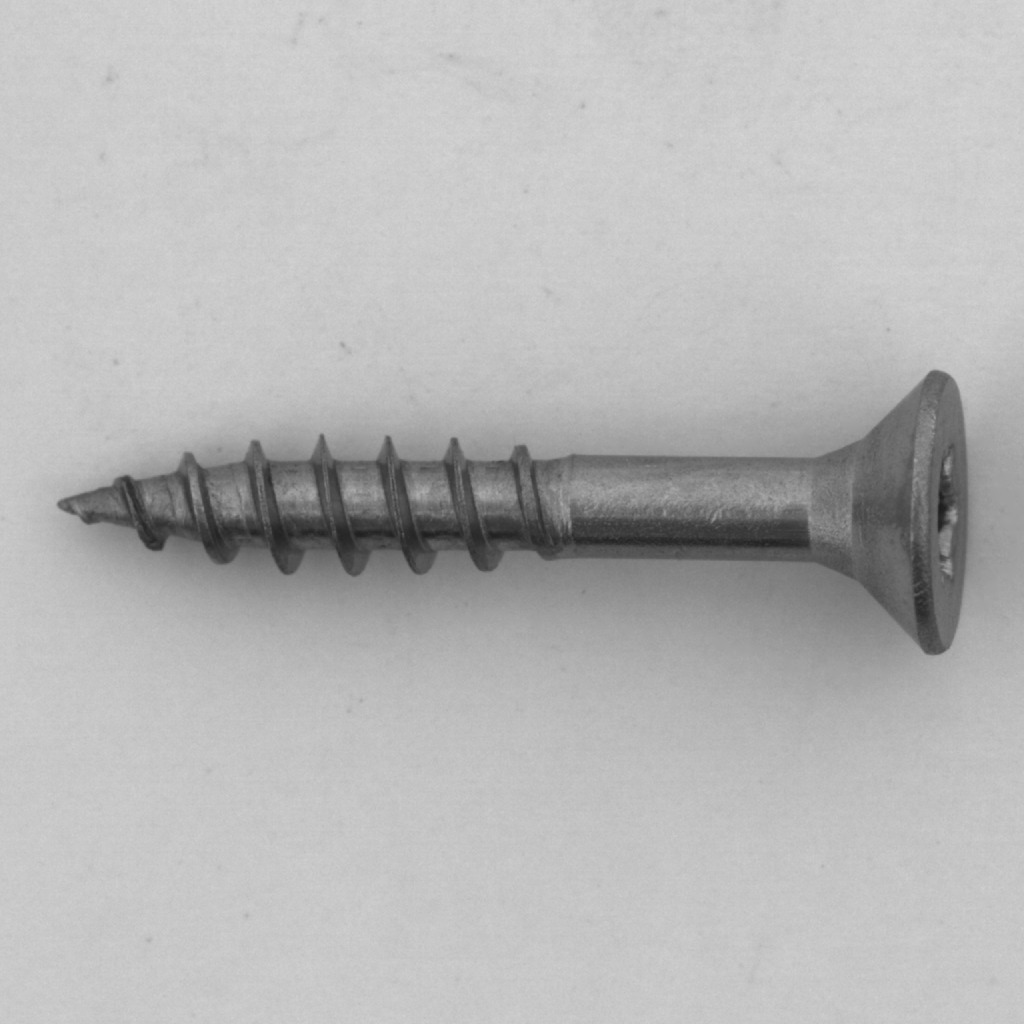good: (24, 356, 990, 673)
